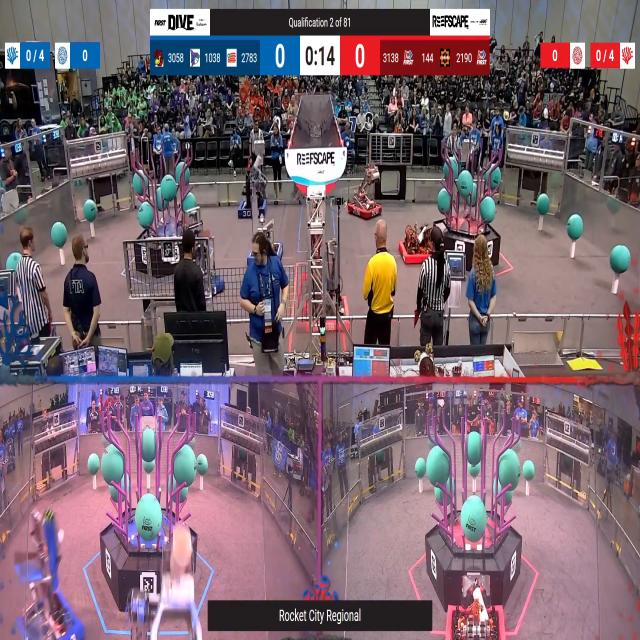scoreboard: (150, 37, 490, 75)
